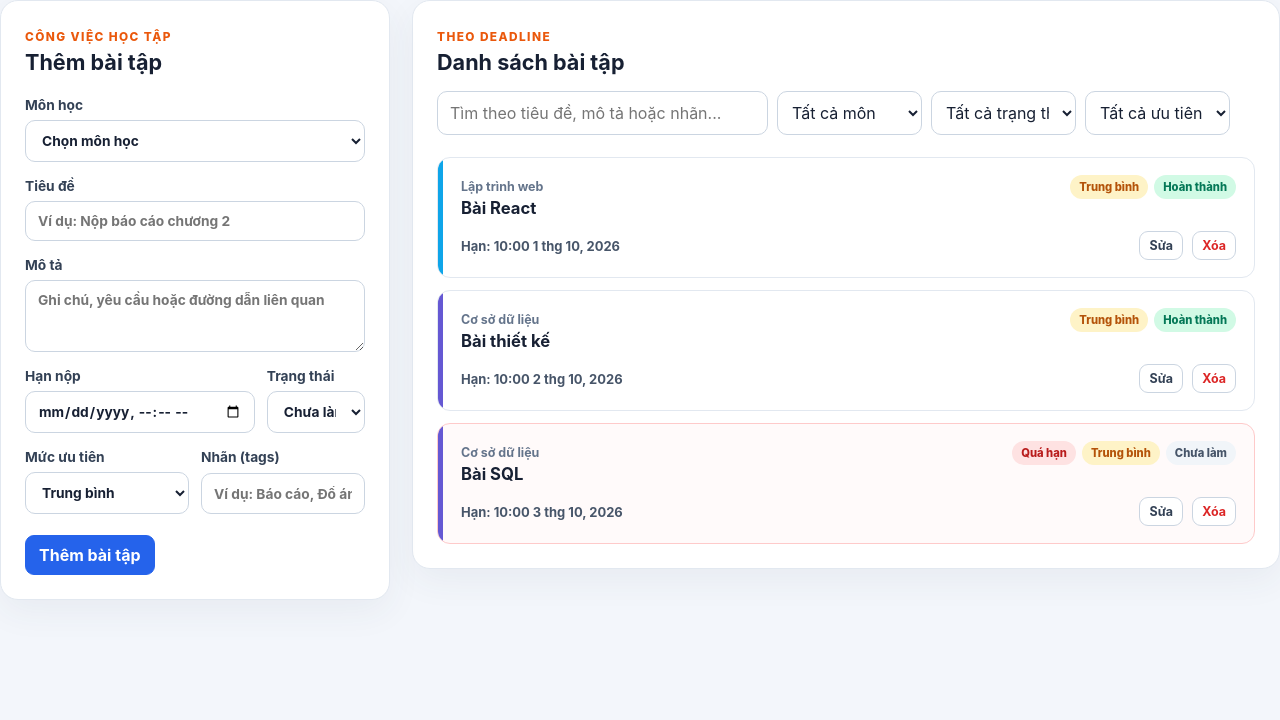
AssignmentsPage filters and ordering › filters by course and status, then restores all assignments
The width and height of the screenshot is (1280, 720).
Expected: the heading "Bài SQL" is shown, [461, 464, 523, 484]
Expected: the heading "Bài React" is shown, [461, 198, 543, 218]
Select "Cơ sở dữ liệu" in the dropdown named "Lọc theo môn" at (850, 113), box [777, 91, 922, 135]
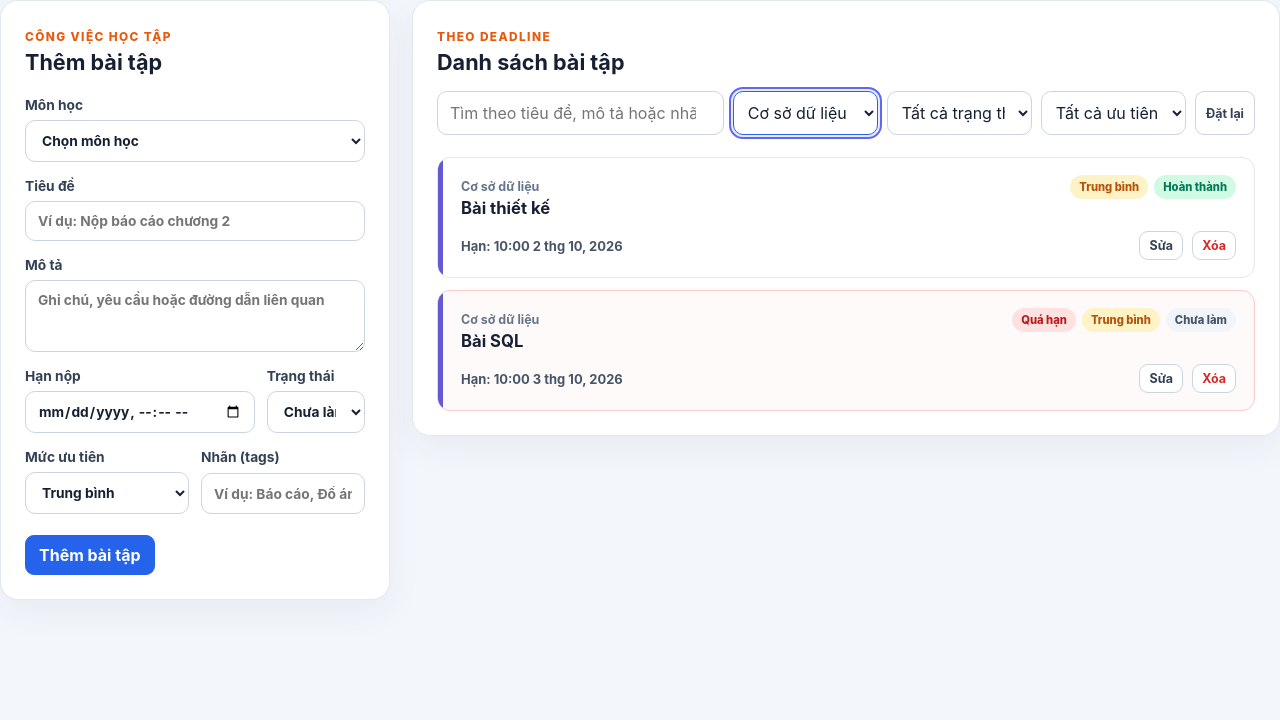
Expected: the heading "Bài SQL" is shown, [461, 331, 523, 351]
Expected: the heading "Bài React" is gone
Select "Hoàn thành" in the dropdown named "Lọc theo trạng thái" at (959, 113), box [887, 91, 1032, 135]
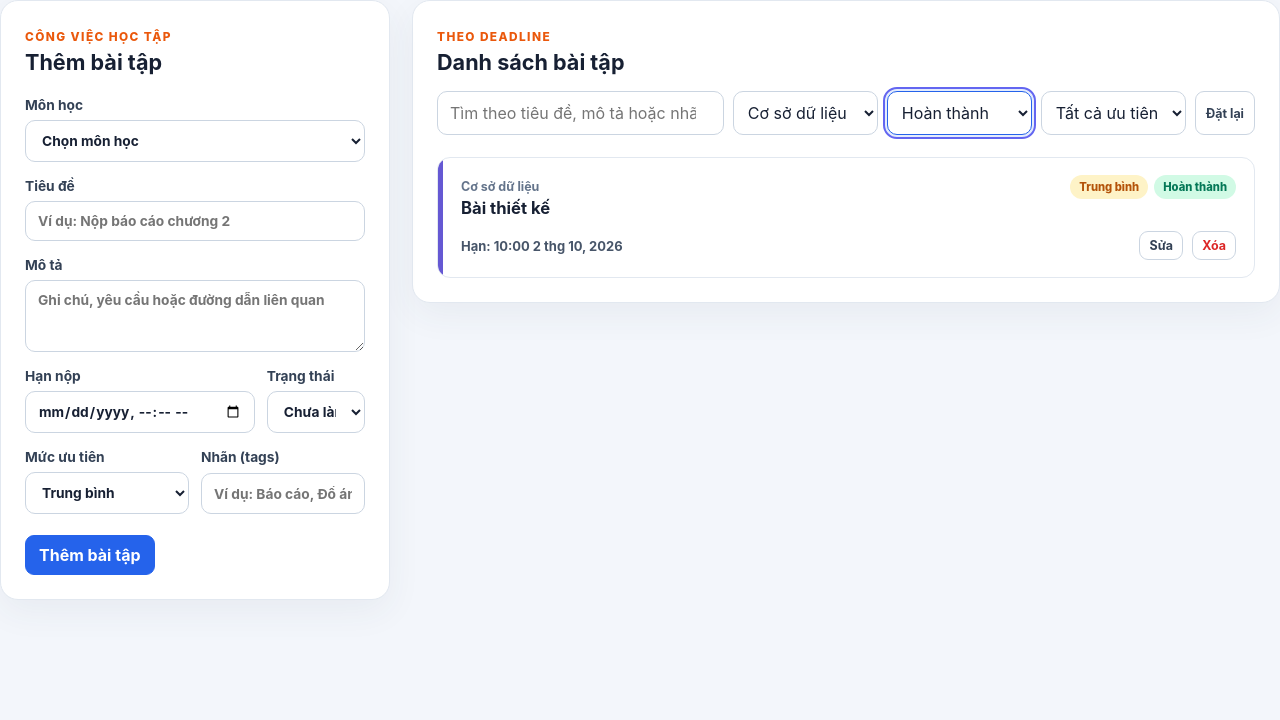
Expected: the heading "Bài thiết kế" is shown, [461, 198, 550, 218]
Expected: the heading "Bài SQL" is gone
Select "Tất cả môn" in the dropdown named "Lọc theo môn" at (805, 113), box [733, 91, 878, 135]
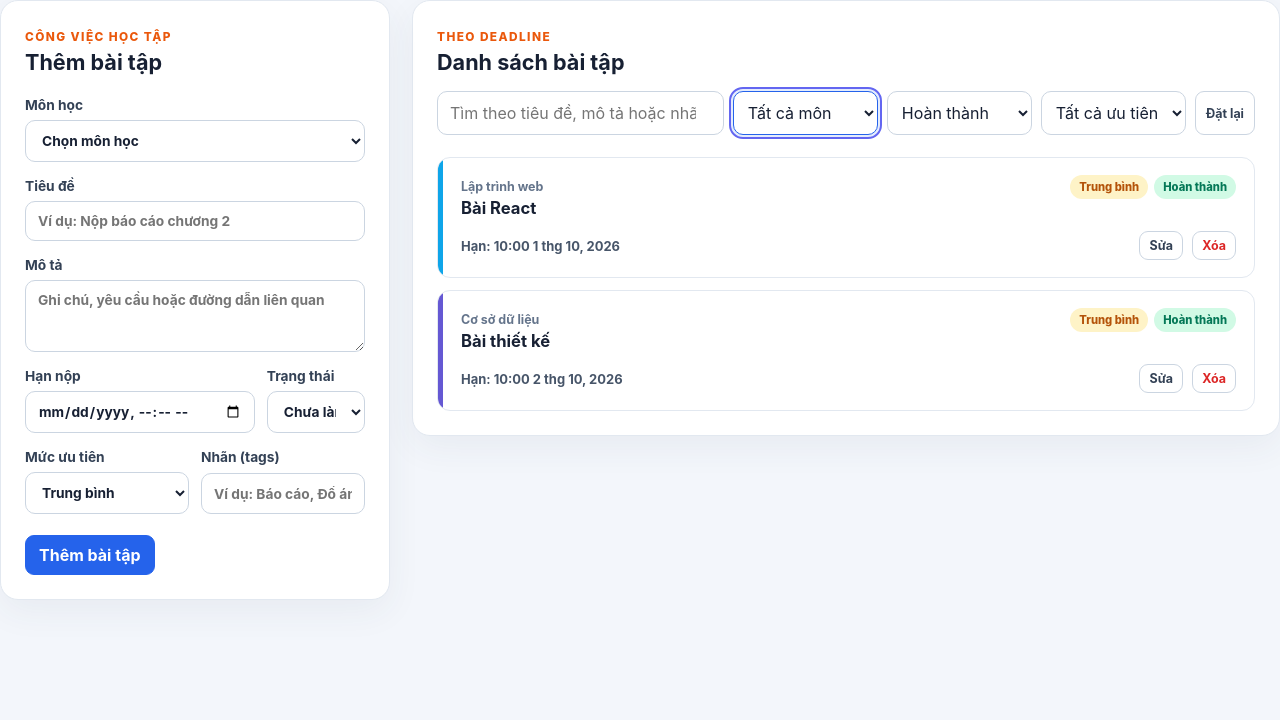
Select "Tất cả trạng thái" in the dropdown named "Lọc theo trạng thái" at (959, 113), box [887, 91, 1032, 135]
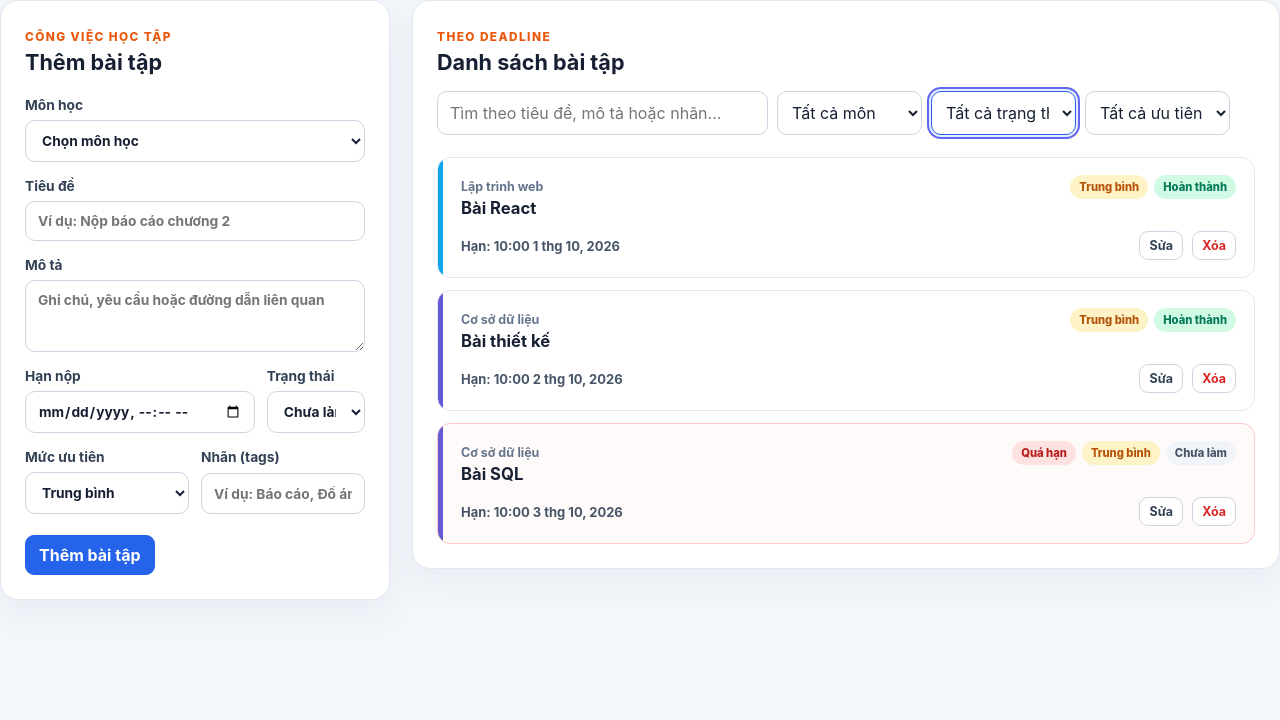
Expected: the heading "Bài thiết kế" is shown, [461, 331, 550, 351]
Expected: the heading "Bài React" is shown, [461, 198, 543, 218]
Expected: the heading "Bài SQL" is shown, [461, 464, 523, 484]
